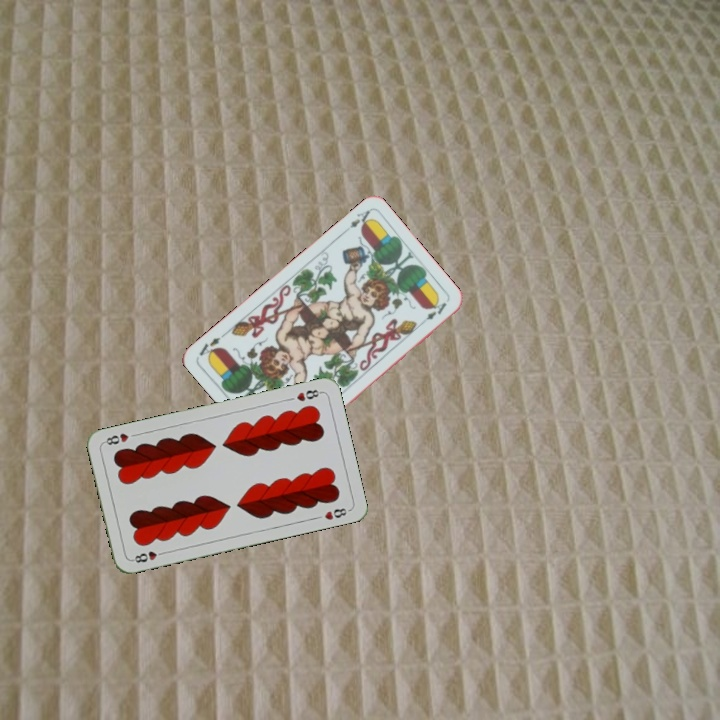EA: (339, 206, 375, 236)
H8: (128, 547, 168, 565), (292, 385, 324, 404)
